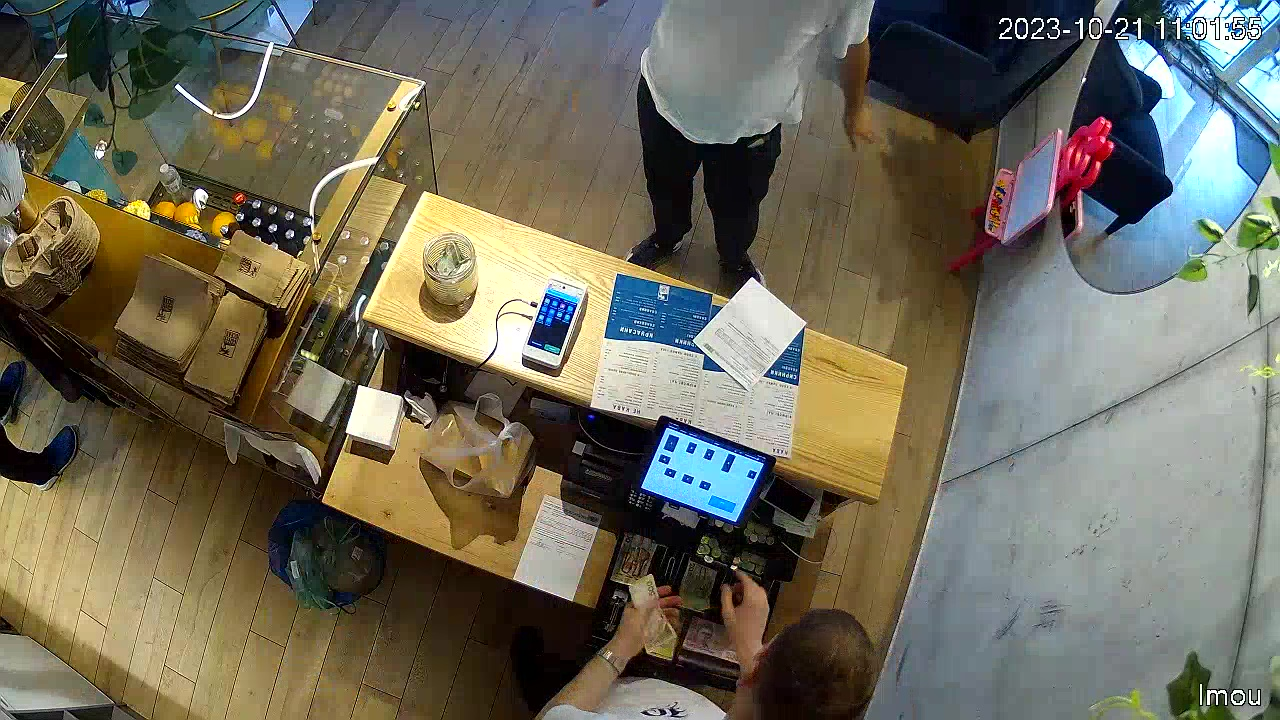openedcash: (596, 511, 770, 698)
